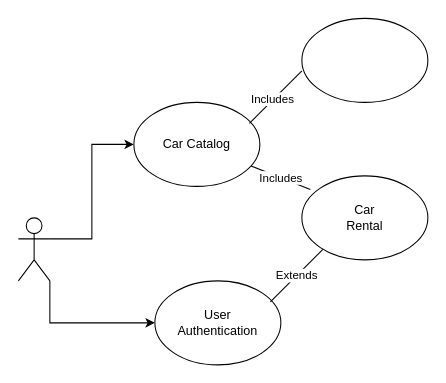
This 446x383 diagram has some shape labels left out. Each missing label, with the centre of its shape:
User: the point at 33,249
View in-depth Car Details: the point at 364,59
